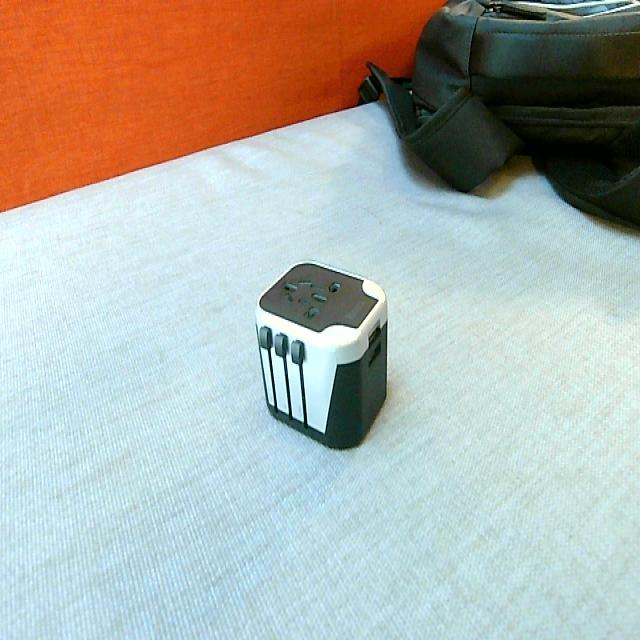adapter: (253, 259, 388, 449)
